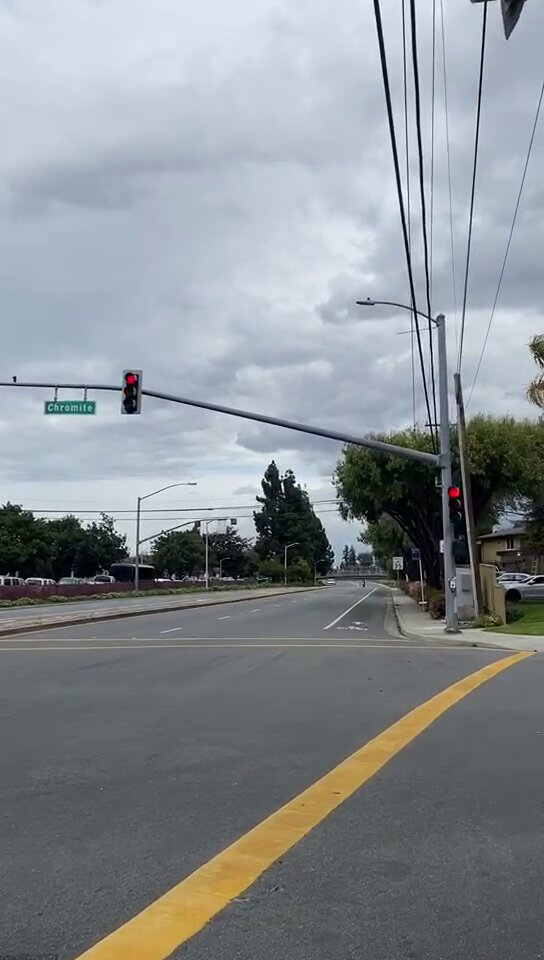red_light: (122, 369, 142, 415), (448, 482, 464, 527)
